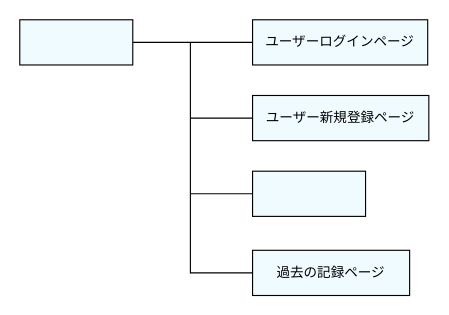
Some shapes in this 449 by 315 pixel diagram are drawn without their labels. Here are the shapes that lost their labels. From the top down, the centre of each, then its label:
At [76,42]: "トップページ".
At [308,193]: "設定ページ".
